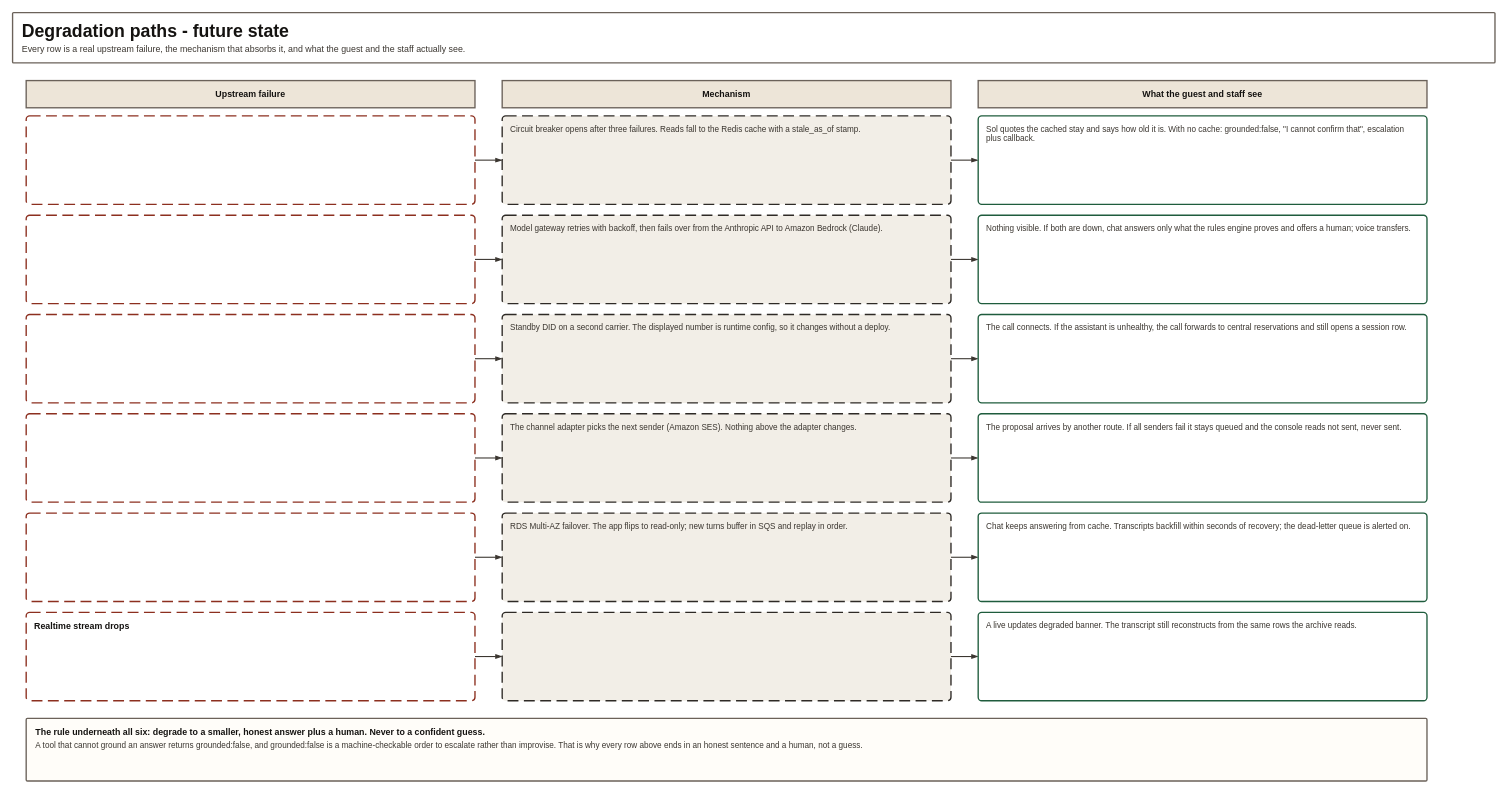
The diagram is 1507 pixels wide and 793 high, and some of its shapes have lost their labels. Each missing label, with the centre of its shape:
"Database write outage" belongs at pixel 250 557.
"Email or SMS provider fails" belongs at pixel 250 458.
"Model provider down or throttled" belongs at pixel 250 259.
"PMS or CRS unreachable" belongs at pixel 250 160.
"Telephony degraded" belongs at pixel 250 358.
"The supervisor console falls back to five-second polling against Postgres." belongs at pixel 726 656.
